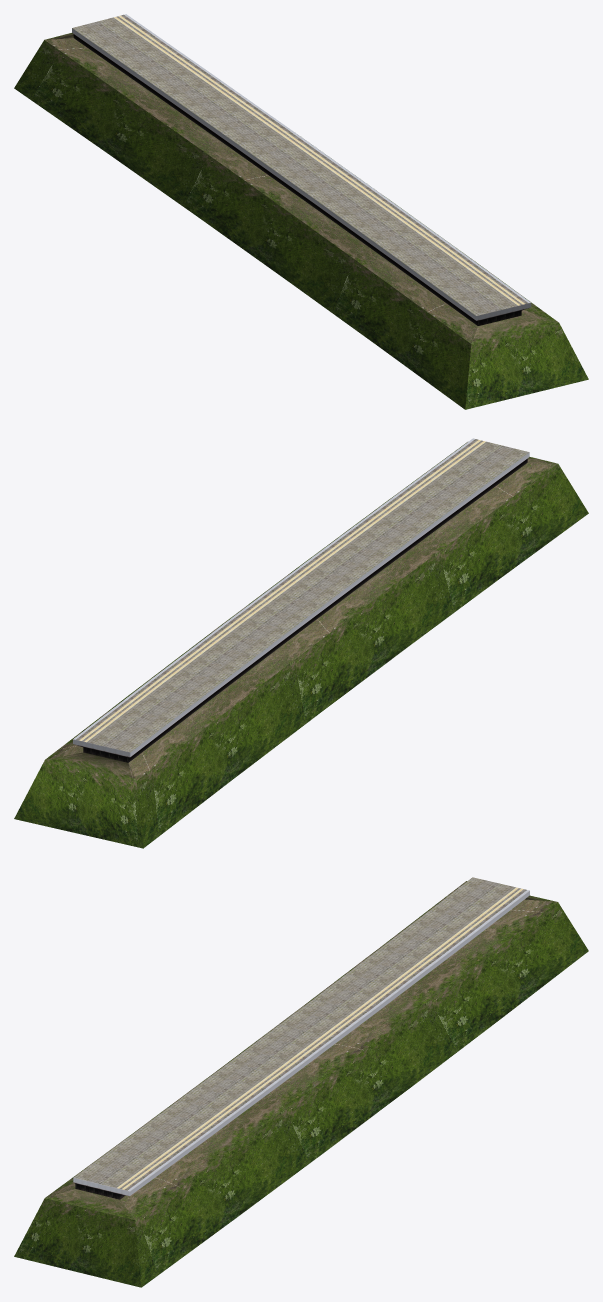
Rendered from platform_rus_2l50.gltf.
3 views of the same model, one above another, from view 1: azimuth 30°, elevation 25°; view 2: azimuth 150°, elevation 25°; view 3: azimuth 330°, elevation 25° (orthographic). The views are drawn at different scales.
Size of the model in its own units: 9.67 by 4.75 by 56.01.
Materials: 1 (1 with a texture image).
